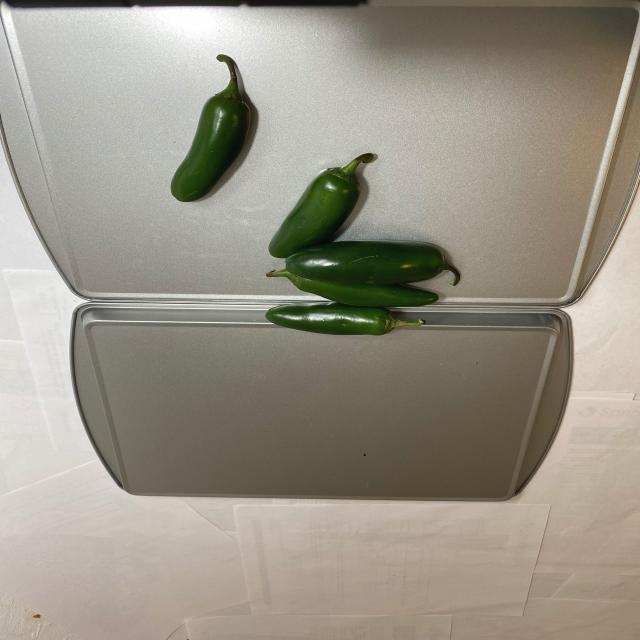chilli: (174, 51, 468, 337)
